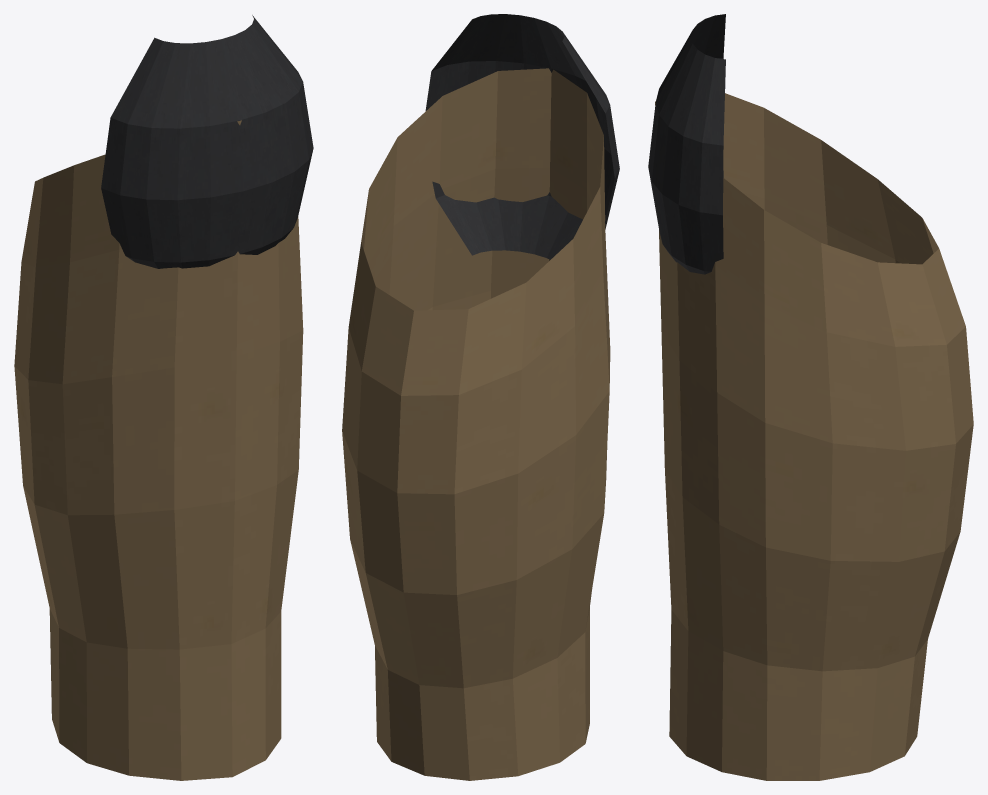
Rendered from eq_present_2_leg.glb.
3 views of the same model, side by side, from view 1: azimuth 30°, elevation 25°; view 2: azimuth 150°, elevation 25°; view 3: azimuth 270°, elevation 25° (orthographic). The views are drawn at different scales.
Parts seen in each view (by area): view 1: eq_present_2_leg; view 2: eq_present_2_leg; view 3: eq_present_2_leg.
Boxes of the visible parts, left/top/right/bottom form: eq_present_2_leg: left=14, top=15, right=313, bottom=780; eq_present_2_leg: left=342, top=14, right=619, bottom=780; eq_present_2_leg: left=648, top=14, right=973, bottom=780.
Bounding box in the file's own units: 0.1539 × 0.4472 × 0.1885.
2 materials, 2 textured.
